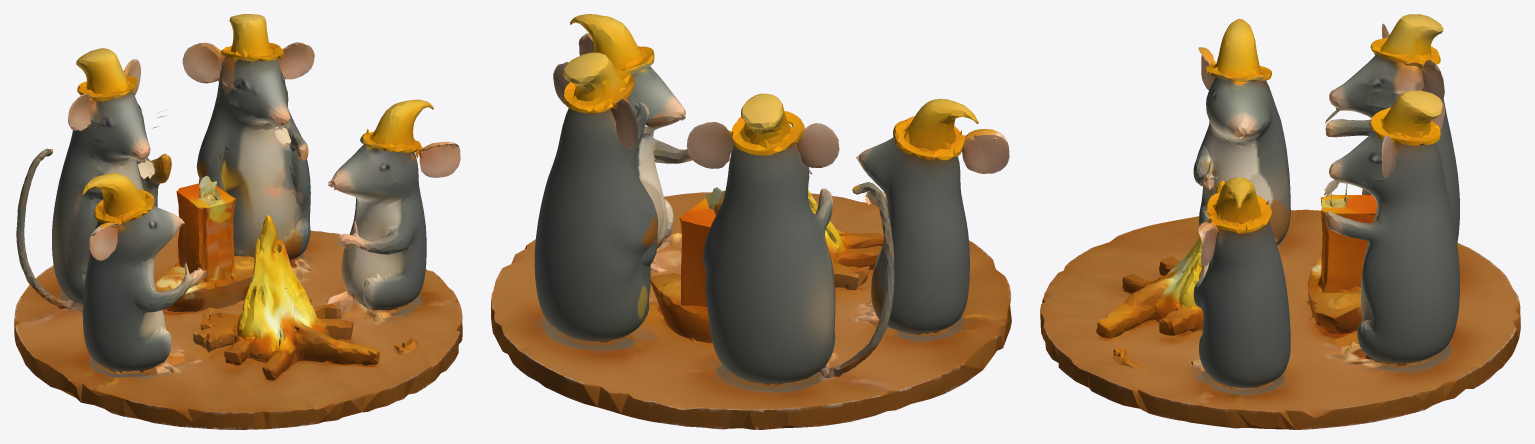
3 views of the same model, side by side, from view 1: azimuth 30°, elevation 25°; view 2: azimuth 150°, elevation 25°; view 3: azimuth 270°, elevation 25° (orthographic). The views are drawn at different scales.
Parts seen in each view (by area): view 1: 038; view 2: 038; view 3: 038.
Part boxes in pixels (box(x1,y1,x2,y2)): 038: box(14, 14, 462, 429); 038: box(491, 14, 1011, 429); 038: box(1040, 14, 1520, 429).
Bounding box in the file's own units: 1.9 × 1.19 × 1.9.
1 material, 1 textured.
